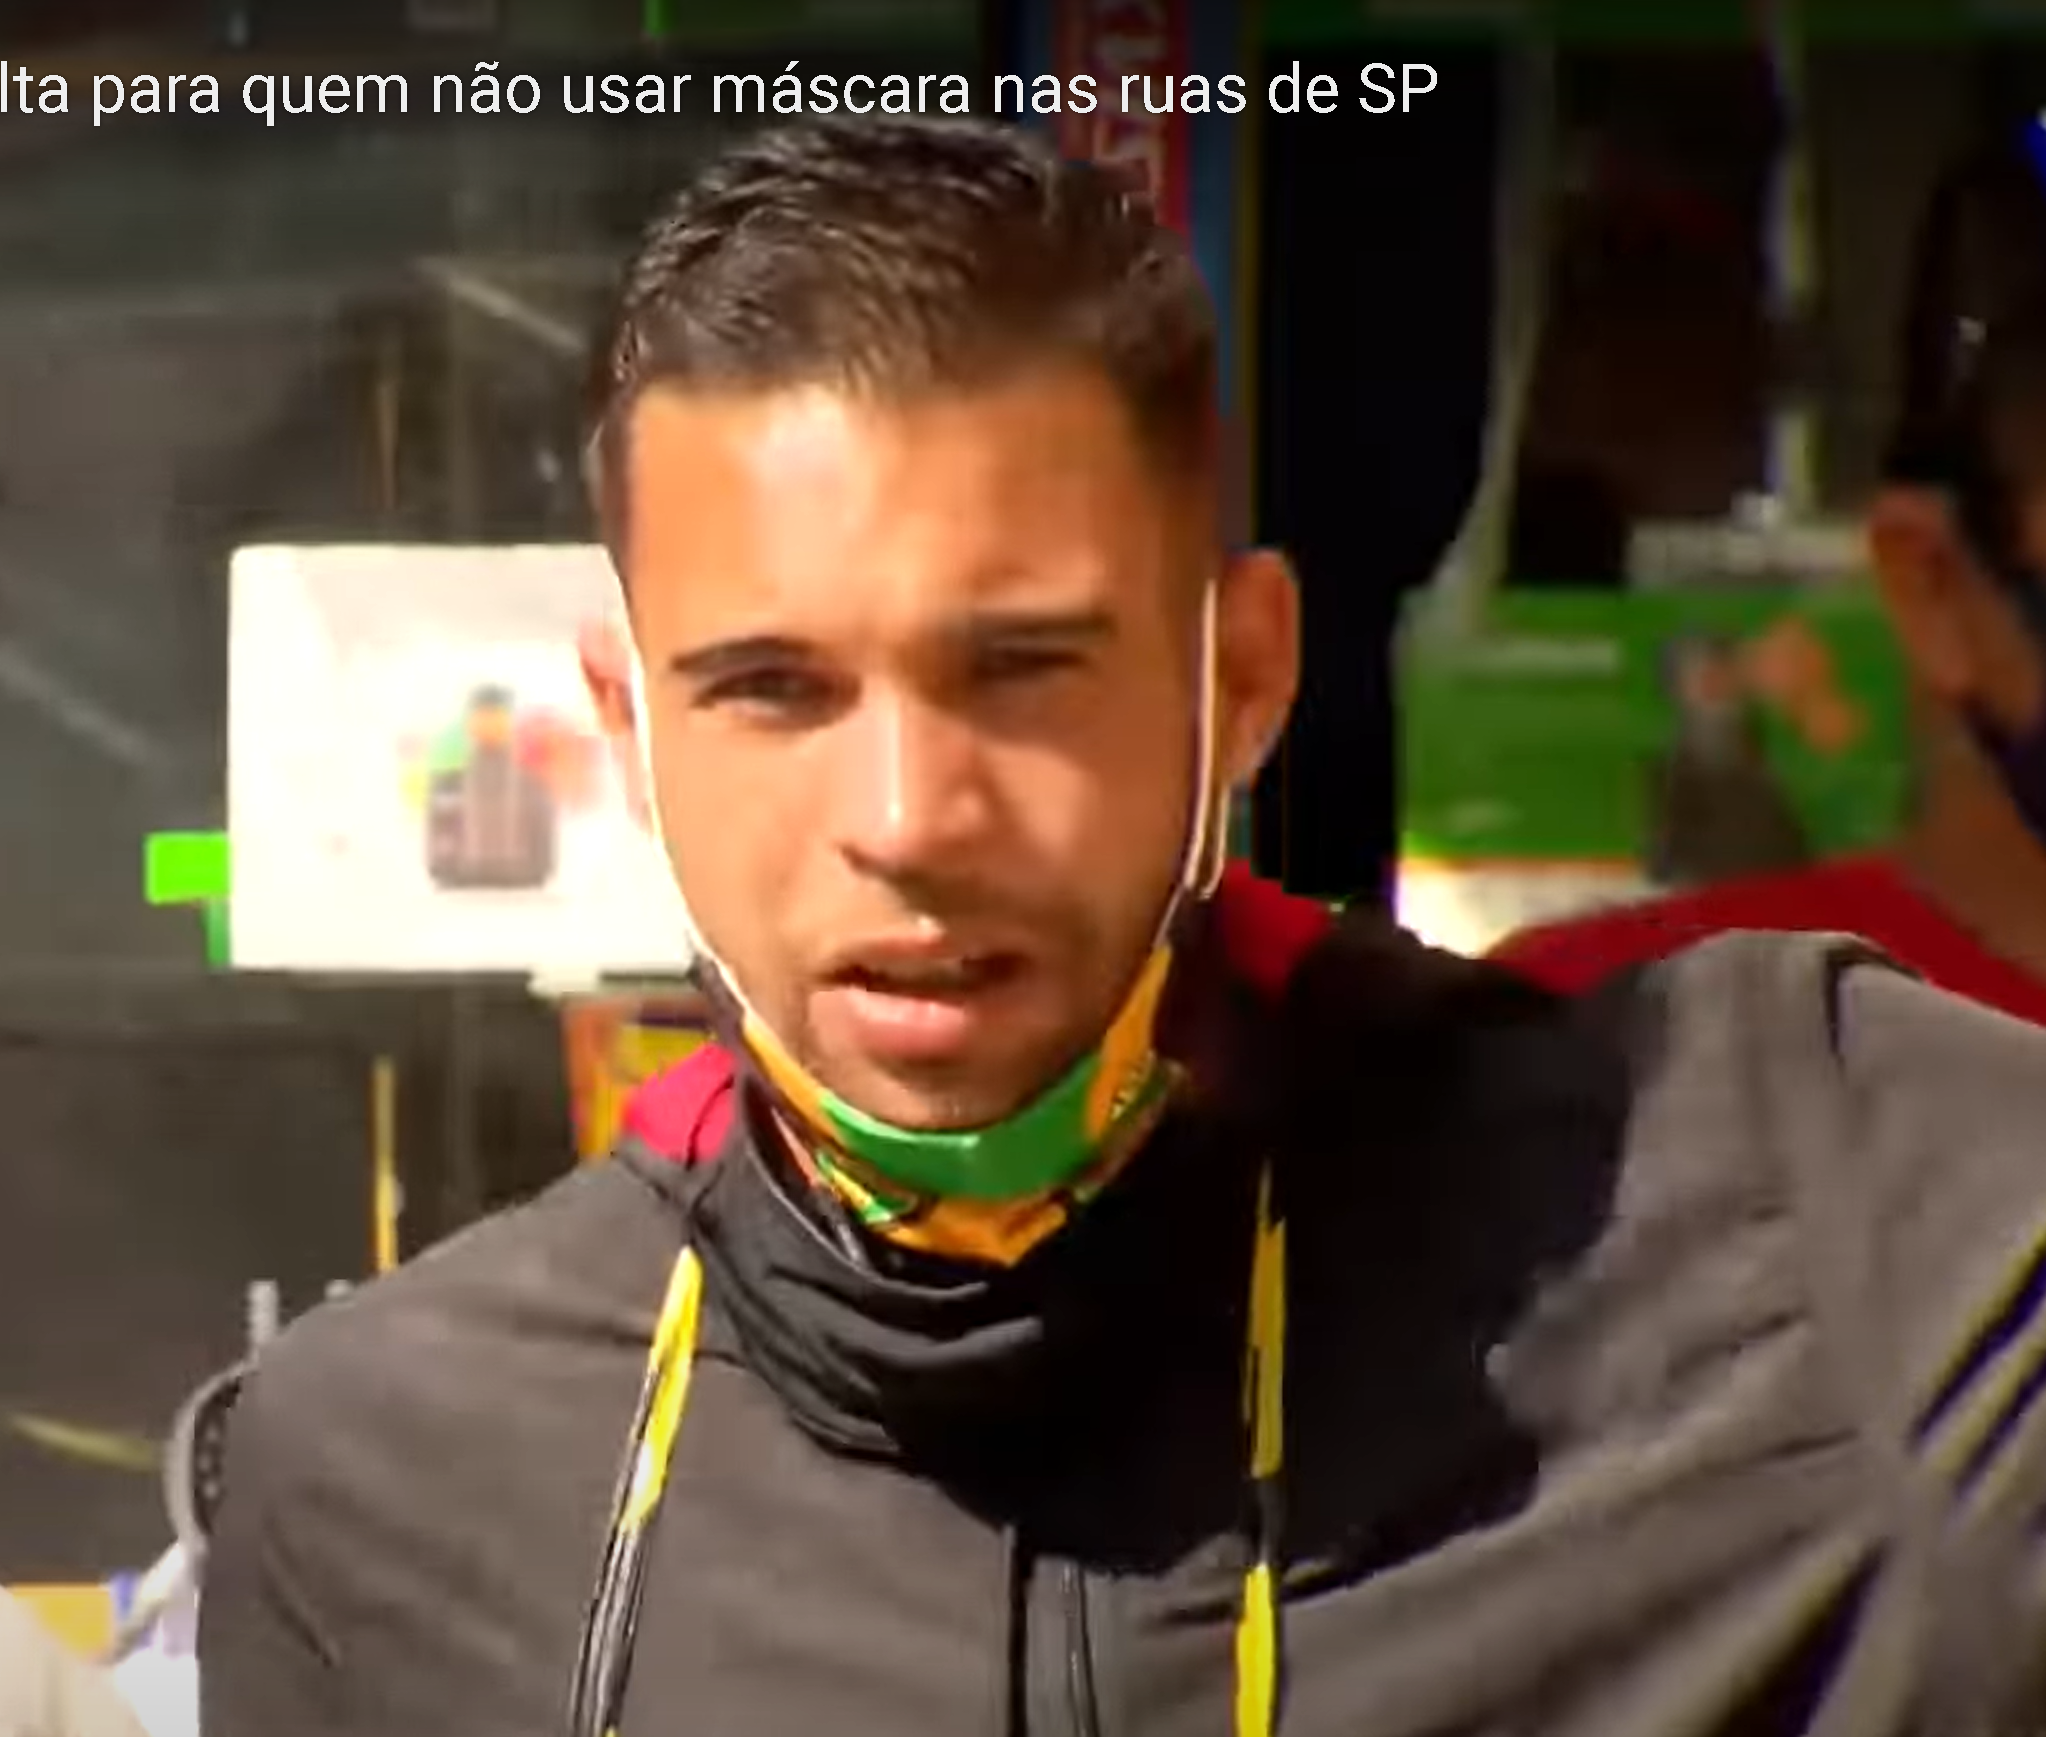mask_weared_incorrect: (562, 219, 1315, 1373)
